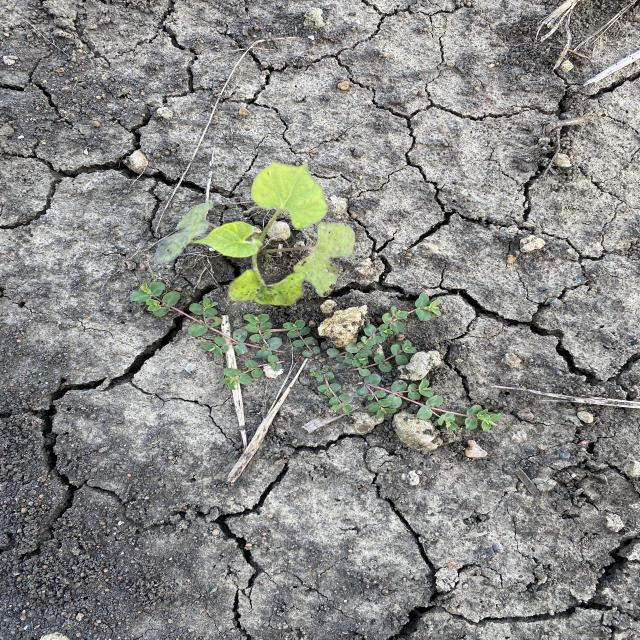MorningGlory: (150, 163, 358, 307)
SpottedSpurge: (127, 280, 508, 436)
